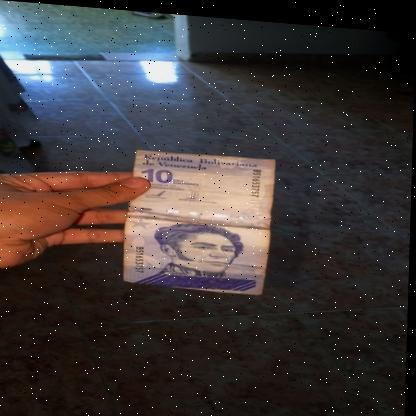ten-front-vef: (124, 145, 276, 291)
